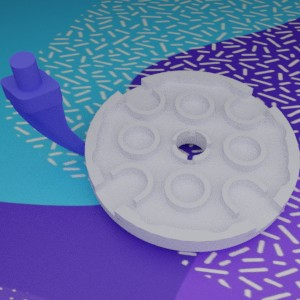lego: (84, 70, 300, 251), (0, 51, 100, 160)
